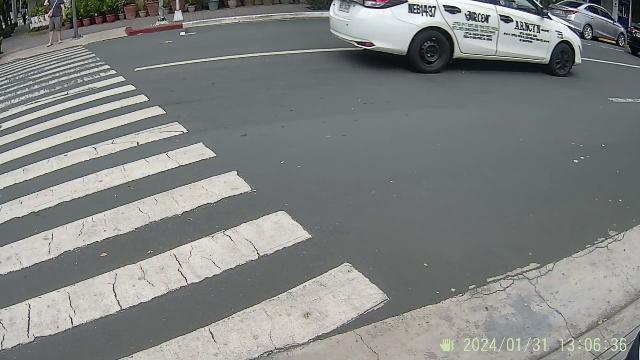cracked_pavement: (612, 316, 640, 360)
